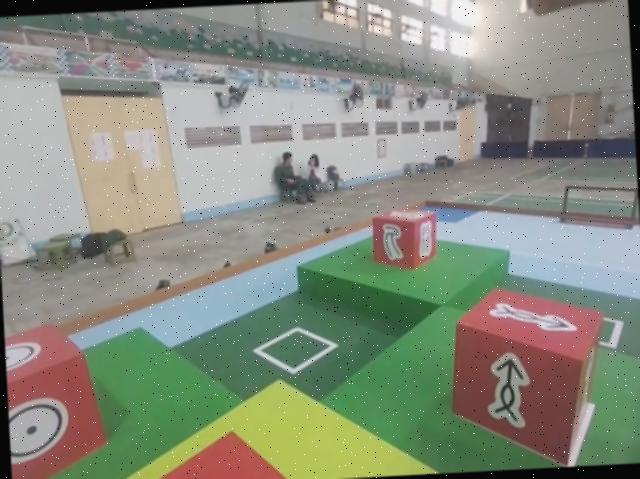R2 Fake: (367, 203, 442, 274)
R2 Real: (447, 282, 611, 471), (4, 314, 114, 479)
